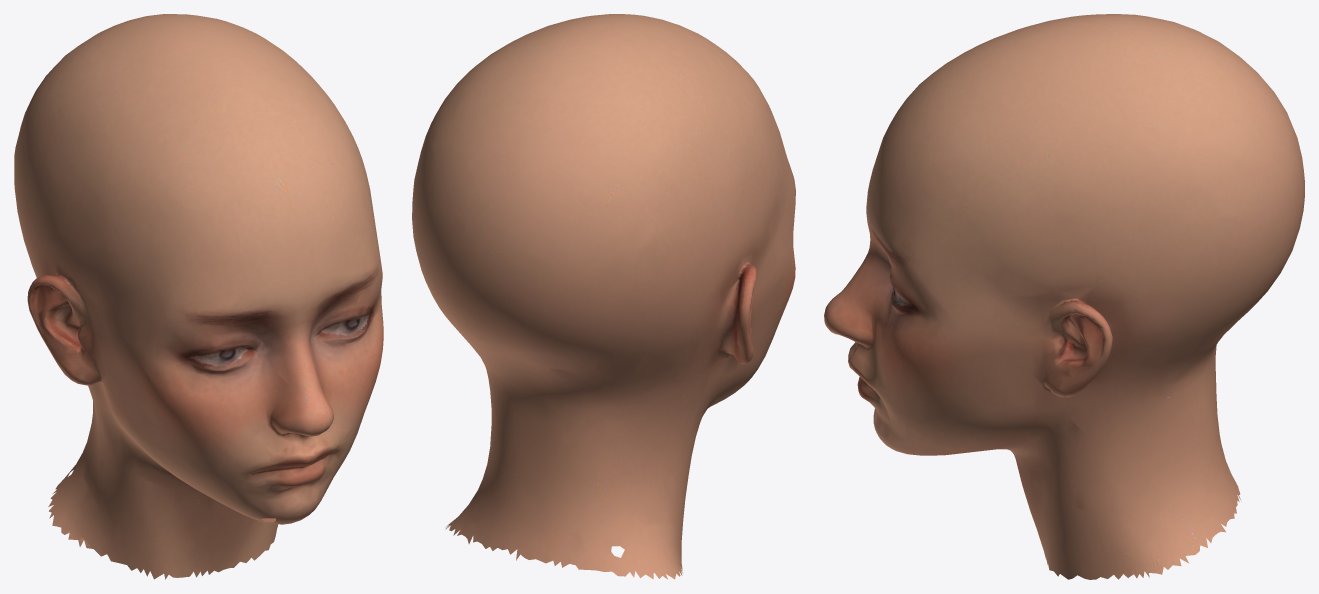
Rendered from head_f3.glb.
The picture shows the model from 3 angles, left to right: view 1: azimuth 30°, elevation 25°; view 2: azimuth 150°, elevation 25°; view 3: azimuth 270°, elevation 25°; orthographic projection. The views are drawn at different scales.
Visible parts, largest first — view 1: Head; view 2: Head; view 3: Head.
Boxes of the visible parts, <box> form: Head: <box>14,14,383,579</box>; Head: <box>412,14,795,579</box>; Head: <box>824,14,1304,579</box>.
Bounding box in the file's own units: 0.8458 × 1.32 × 1.1.
1 material, 1 textured.
